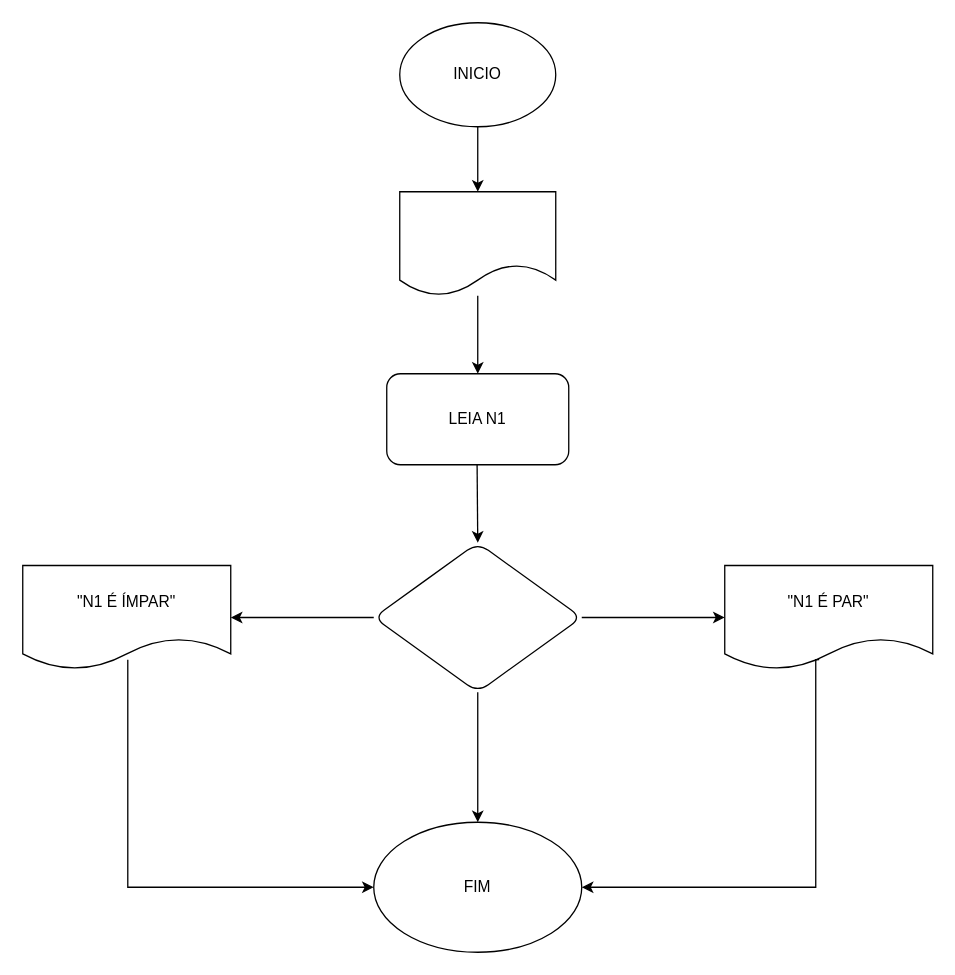
Some shapes in this 955 by 975 pixel diagram are drawn without their labels. Here are the shapes that lost their labels. From the top down, the box of each, then its label:
(398, 190, 556, 296): N1
(372, 541, 582, 692): SE N1 %2
